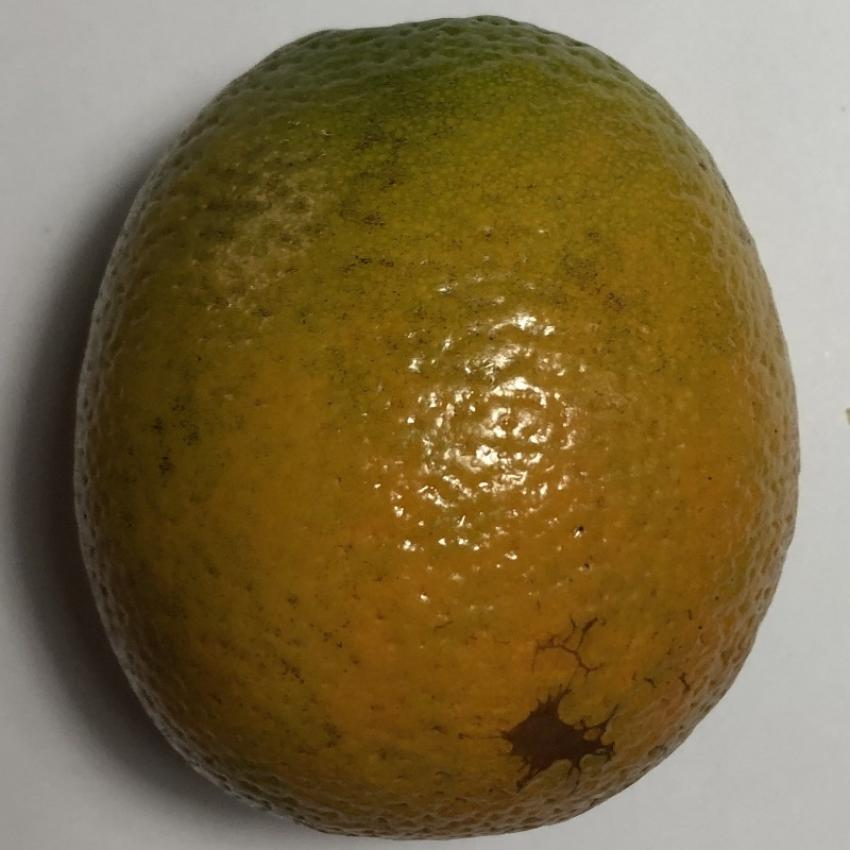Mal estado: (57, 8, 809, 845)
